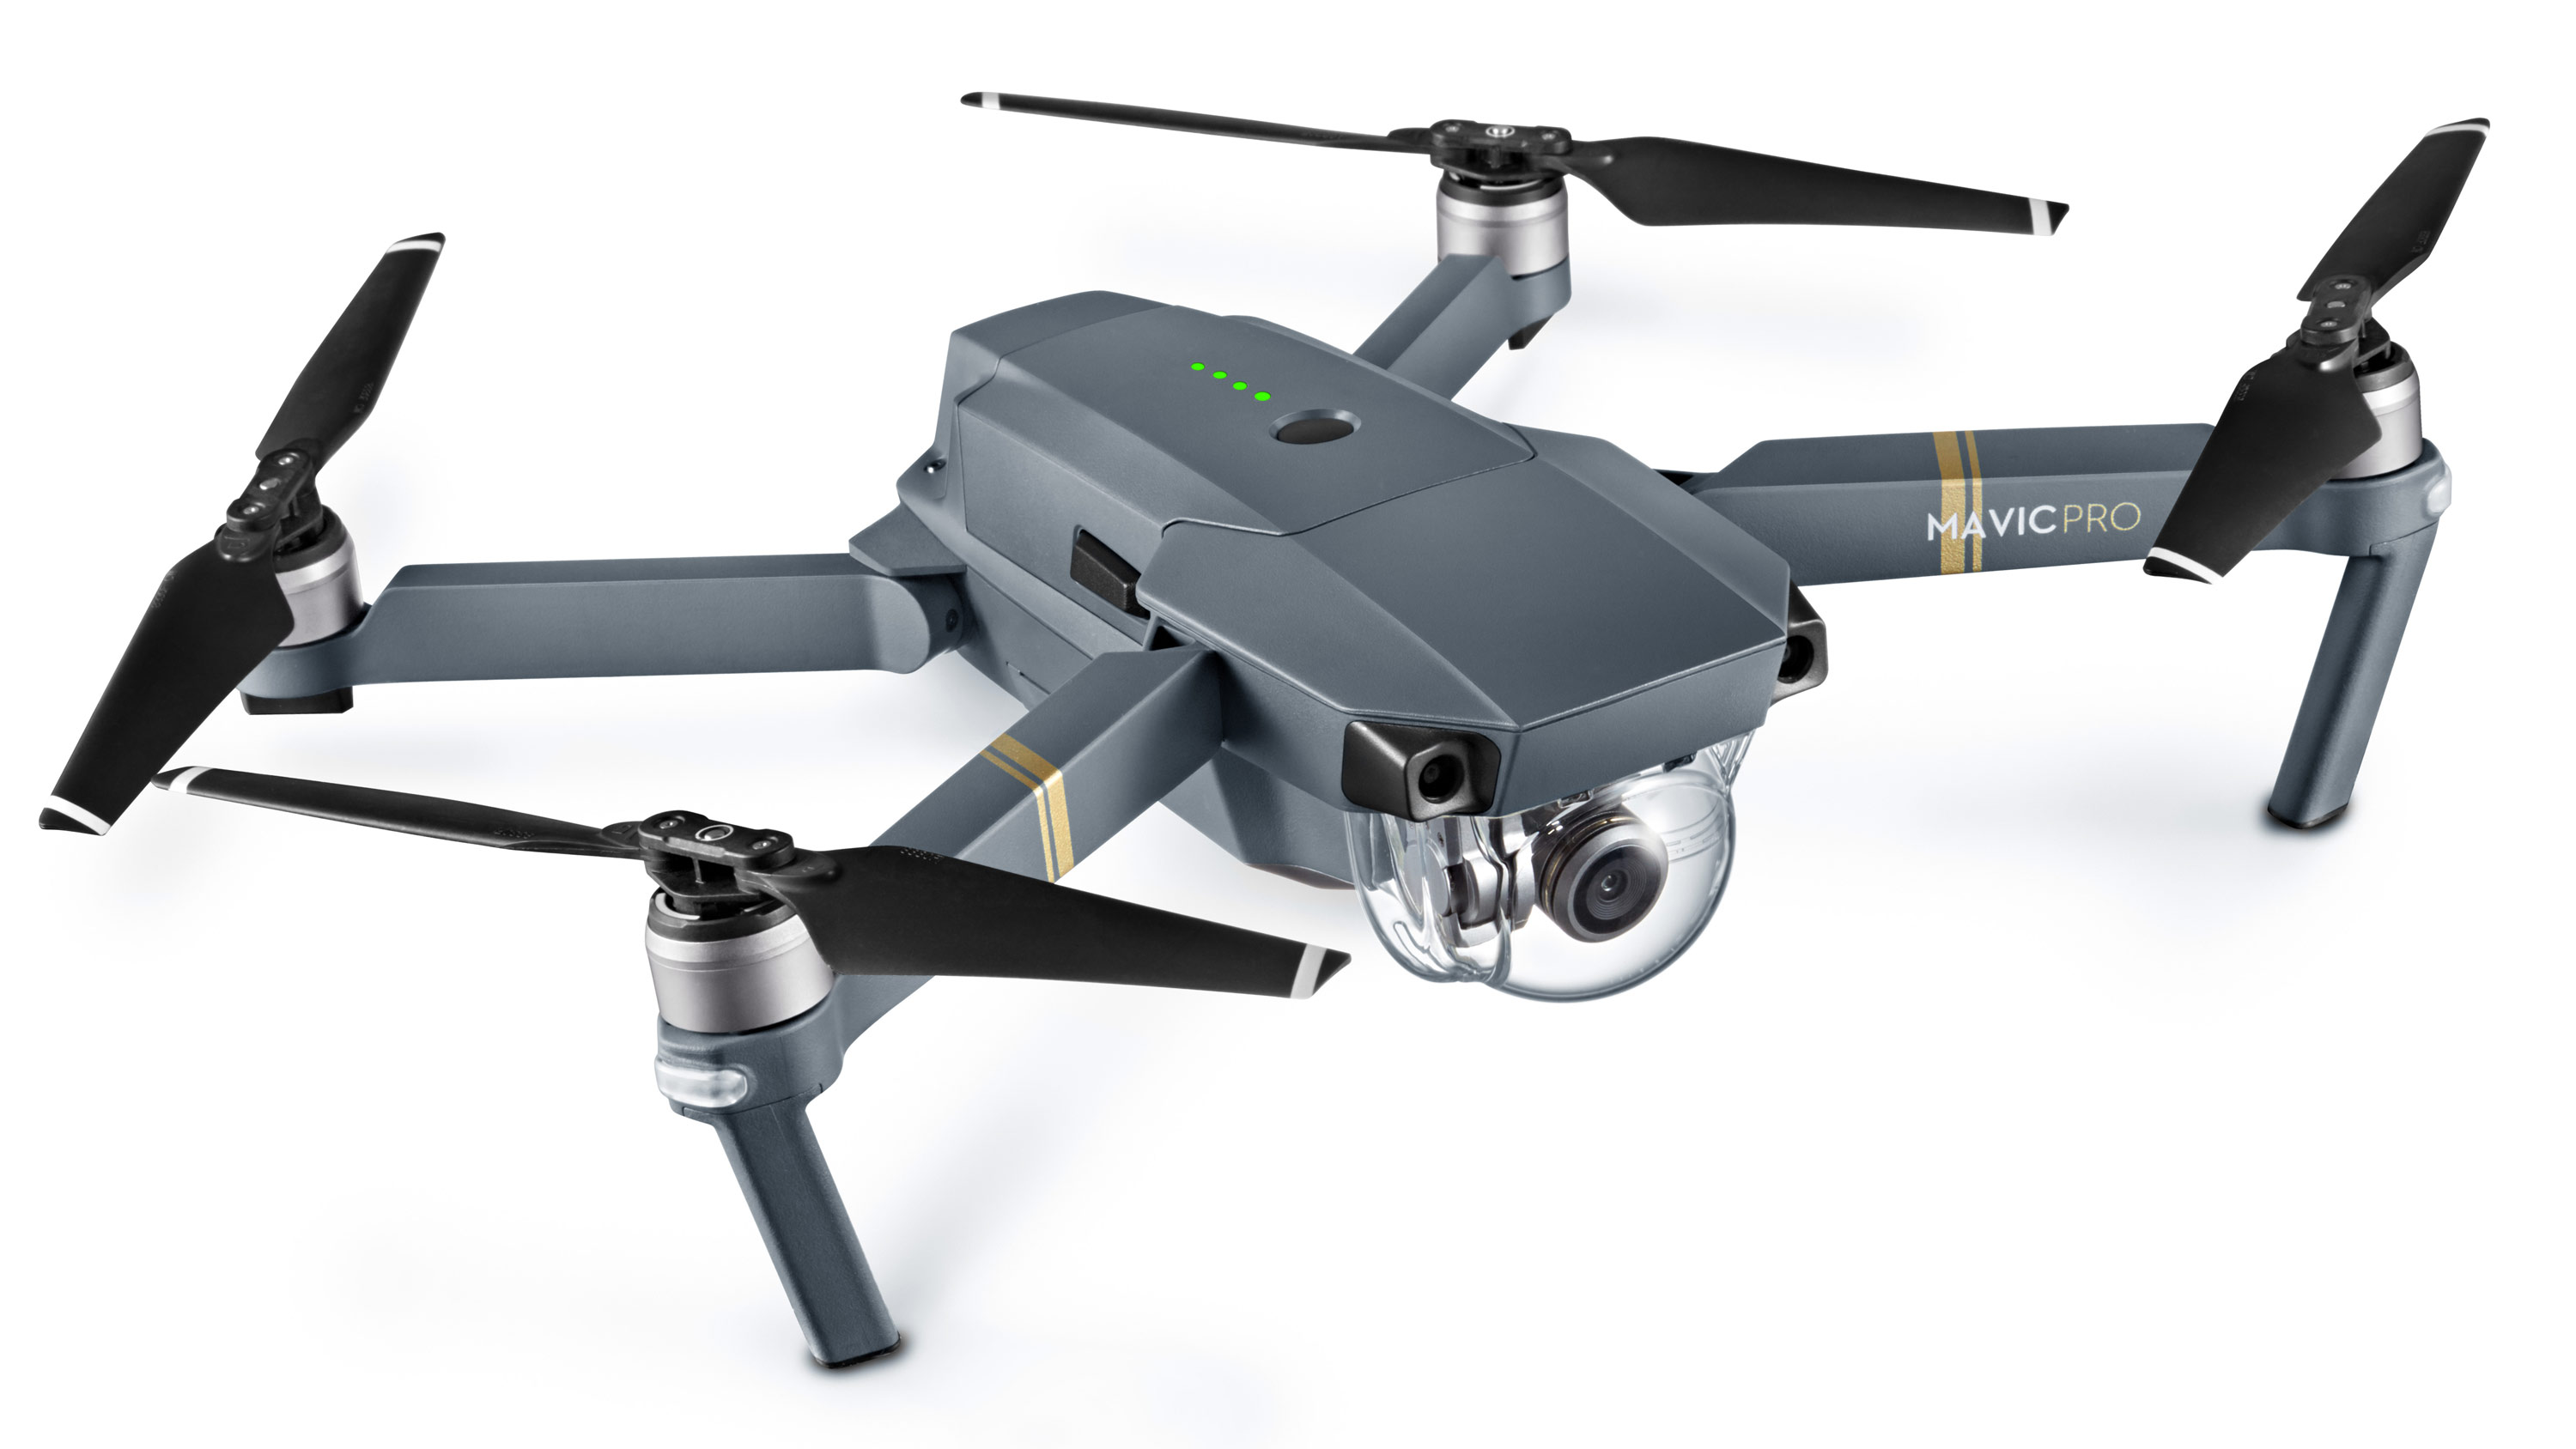drone: (37, 74, 2496, 1407)
